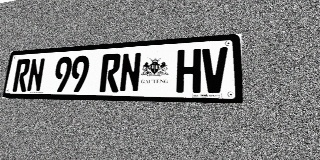9: (69, 55, 90, 92), (53, 56, 73, 92)
H: (176, 49, 201, 93)
N: (119, 52, 142, 92), (26, 58, 45, 92)
R: (99, 53, 121, 92), (12, 59, 31, 92)
V: (201, 47, 228, 93)
